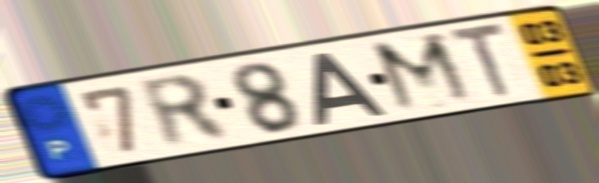7: (74, 82, 136, 157)
8: (225, 58, 304, 136)
A: (311, 49, 390, 128)
M: (365, 29, 482, 117)
R: (132, 72, 237, 152)
T: (445, 18, 516, 102)
